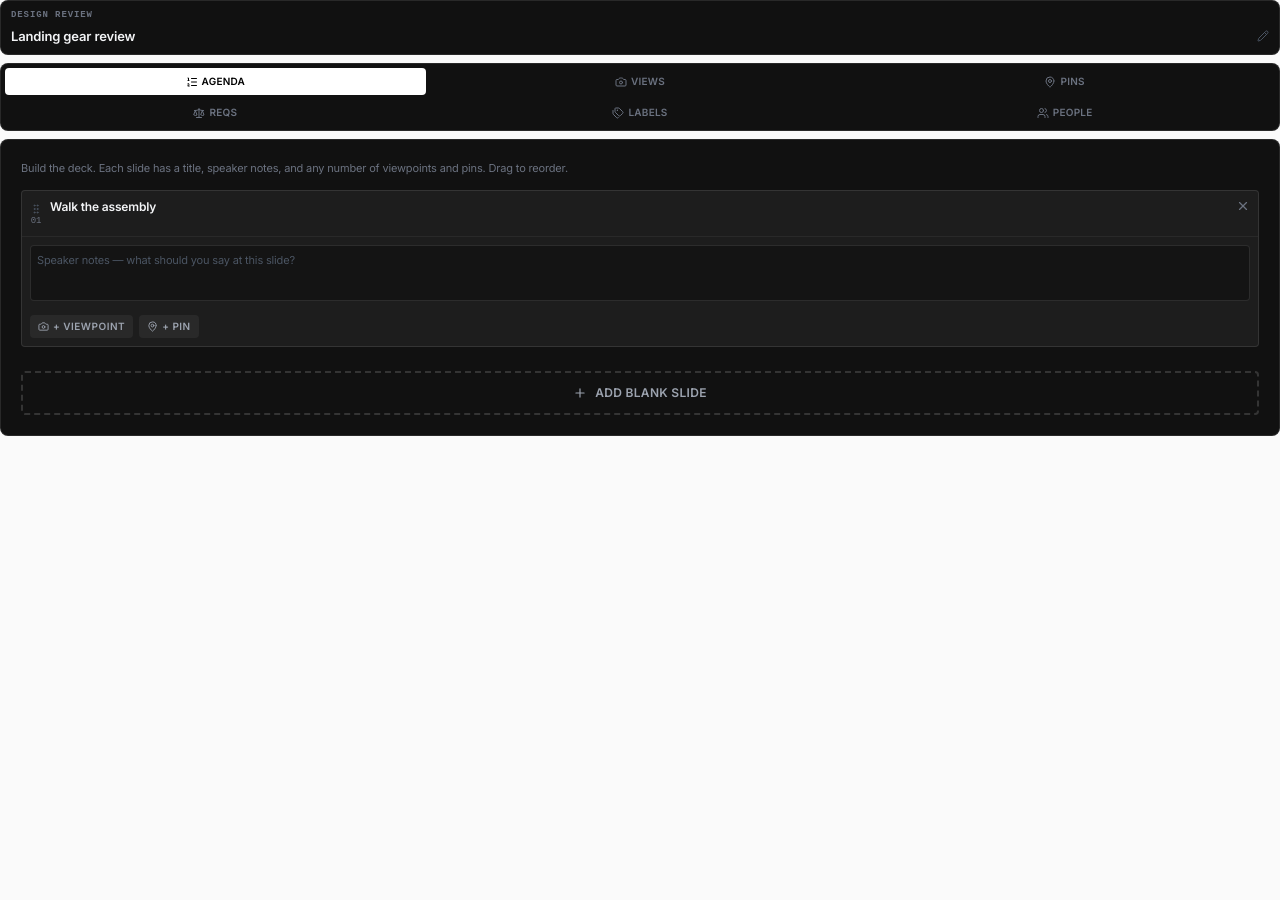
naming the design review › changes nothing when the rename is escaped
Click the button with test id "review-title-edit" at (73, 36), box [11,26,1269,46]
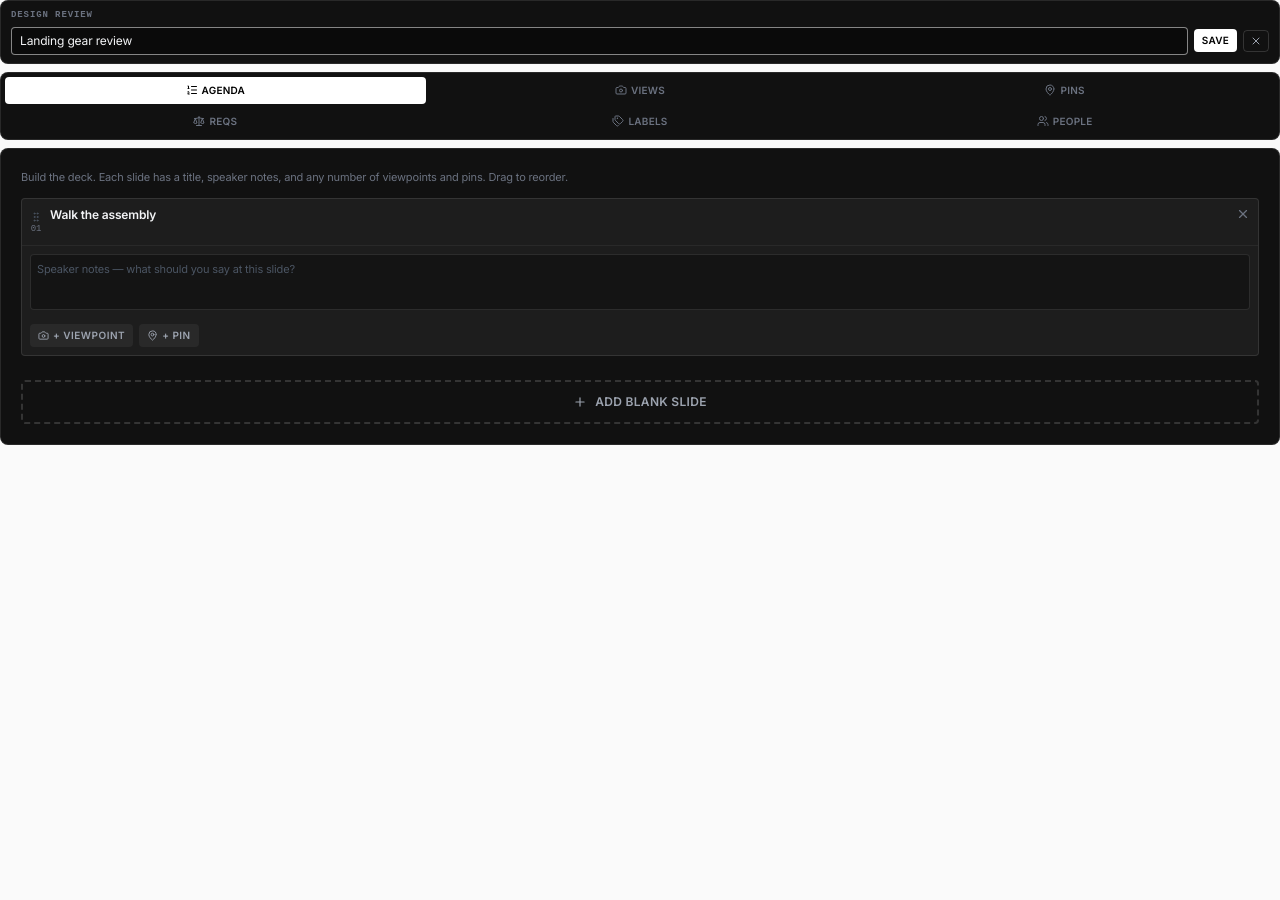
Replace the text in the field with test id "review-title-field" with "Something else" at (599, 40), box [11,26,1188,54]
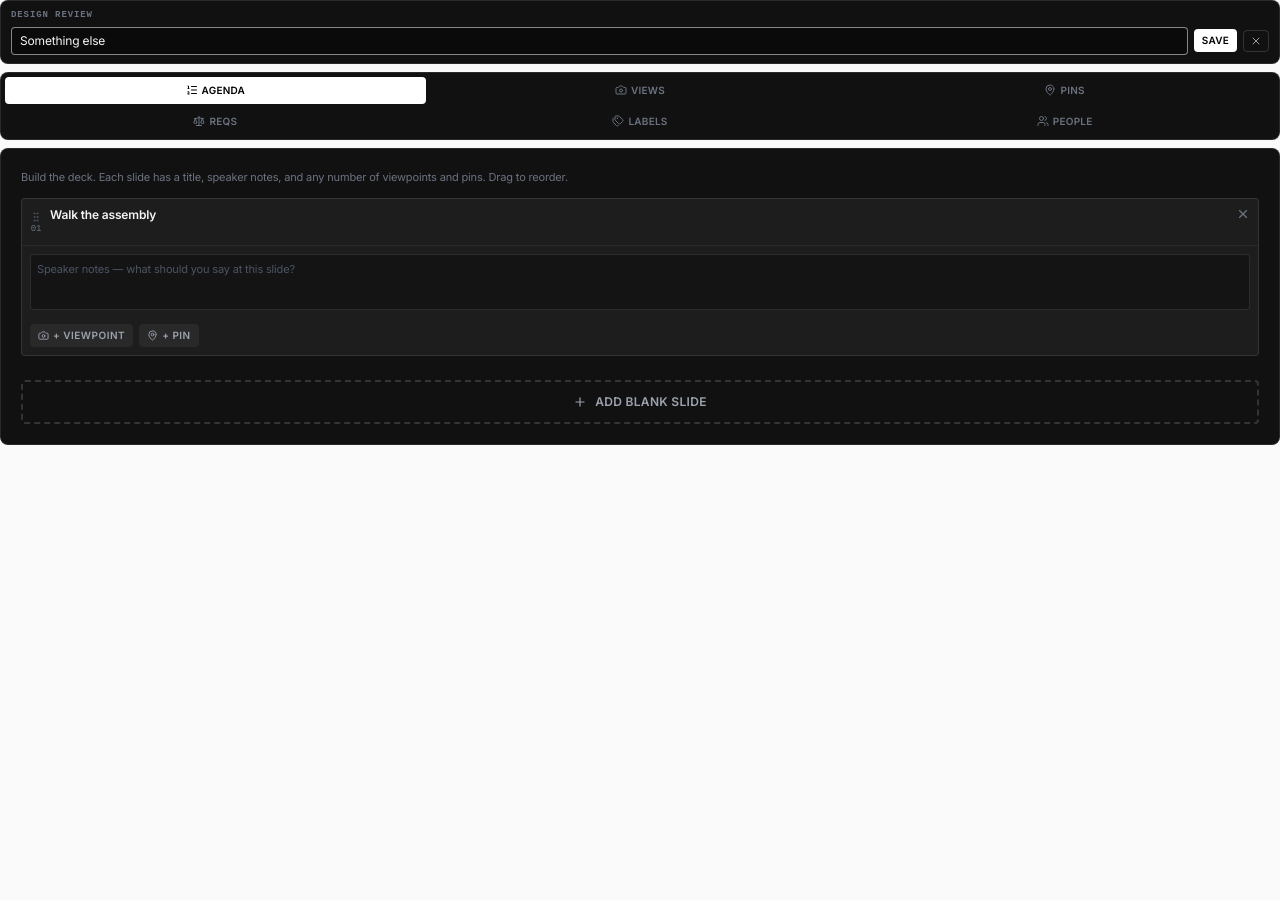
Press Escape in the field with test id "review-title-field", box [11,26,1188,54]
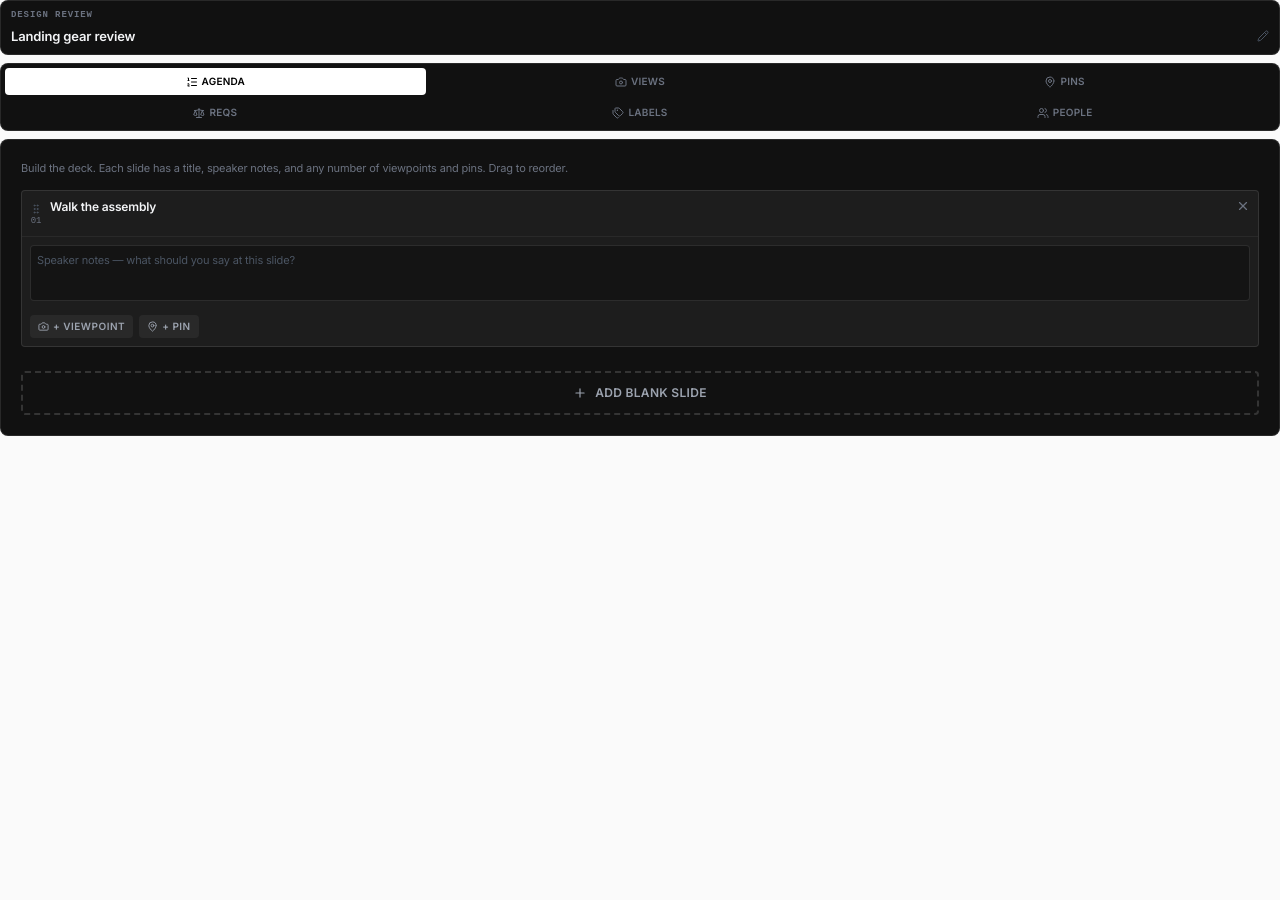
Expected: the field with test id "review-title-field" is gone
Expected: the text "Landing gear review" is shown, [11,28,135,44]
